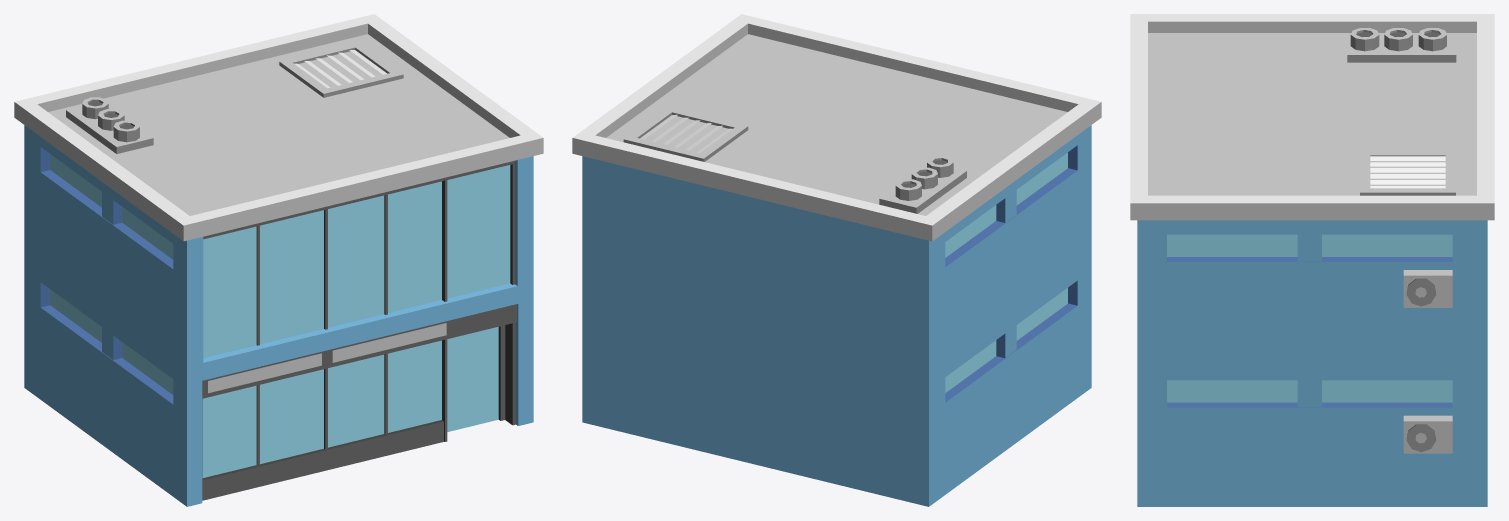
Rendered from House_1.fbx.
3 views of the same model, side by side, from view 1: azimuth 30°, elevation 25°; view 2: azimuth 150°, elevation 25°; view 3: azimuth 270°, elevation 25° (orthographic). The views are drawn at different scales.
Parts seen in each view (by area): view 1: House_1; view 2: House_1; view 3: House_1.
Boxes of the visible parts, box(x1,y1,x2,y2) form: House_1: box(14, 14, 543, 506); House_1: box(572, 14, 1101, 506); House_1: box(1130, 14, 1494, 506).
Bounding box in the file's own units: 3.76 × 2.88 × 3.01.
